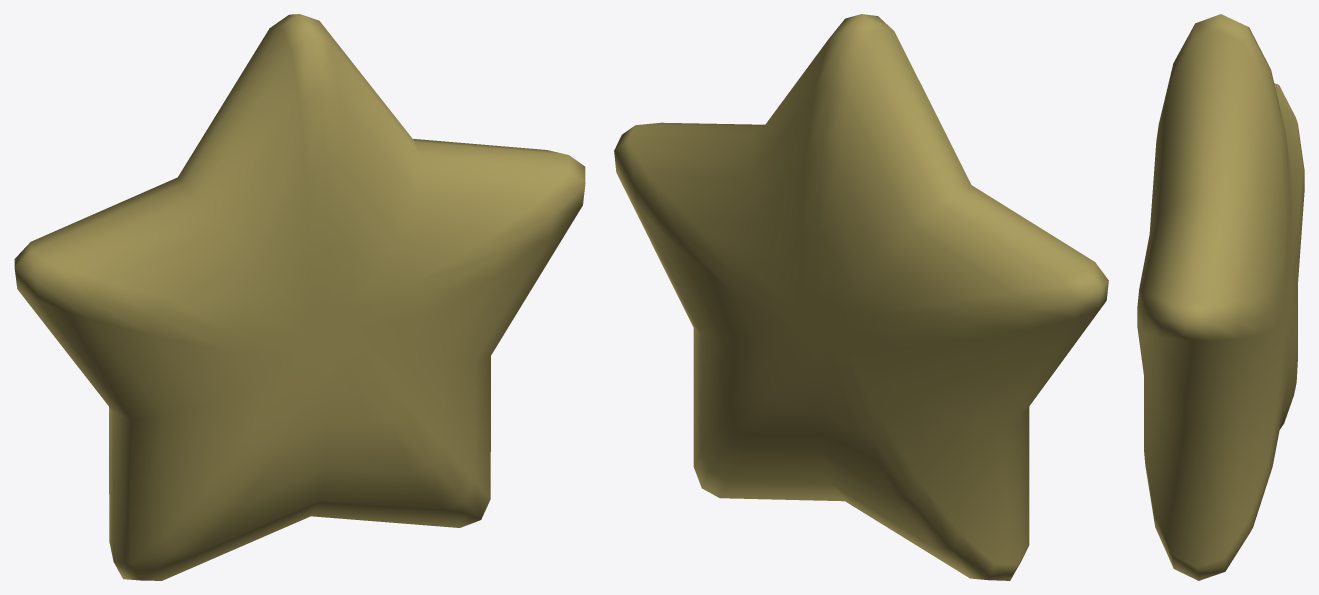
The model's file is AS_star.fbx.
The picture shows the model from 3 angles, left to right: view 1: azimuth 30°, elevation 25°; view 2: azimuth 150°, elevation 25°; view 3: azimuth 270°, elevation 25°; orthographic projection. The views are drawn at different scales.
Parts seen in each view (by area): view 1: pCylinder1; view 2: pCylinder1; view 3: pCylinder1.
Boxes of the visible parts, x1,y1,x2,y2 form: pCylinder1: (14,14,585,580); pCylinder1: (614,14,1108,580); pCylinder1: (1137,14,1304,580).
Bounding box in the file's own units: 26.33 × 25.45 × 7.79.
